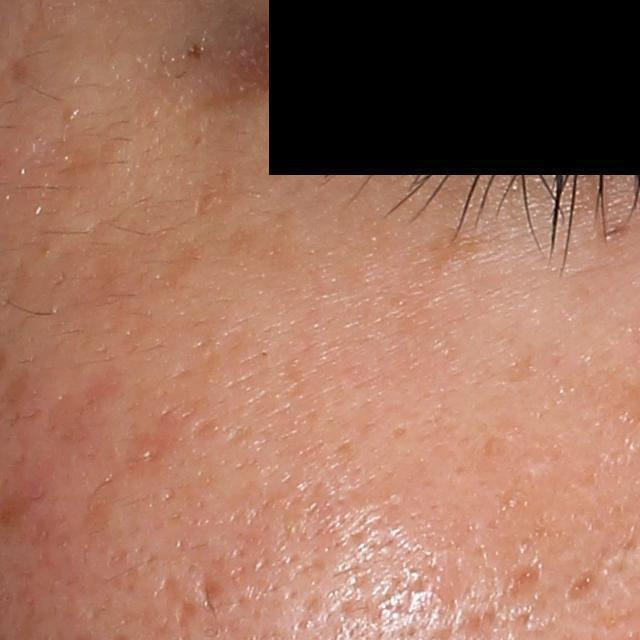atrophic_scar: (152, 575, 201, 631), (116, 425, 170, 474), (503, 561, 547, 604), (557, 567, 604, 605), (455, 610, 498, 638), (195, 570, 224, 610)
melasma: (229, 206, 302, 283), (407, 224, 489, 278), (157, 239, 204, 298), (190, 170, 239, 226)
